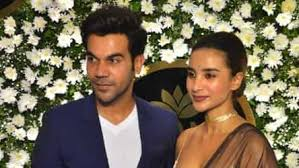Bad: (32, 7, 278, 168)
